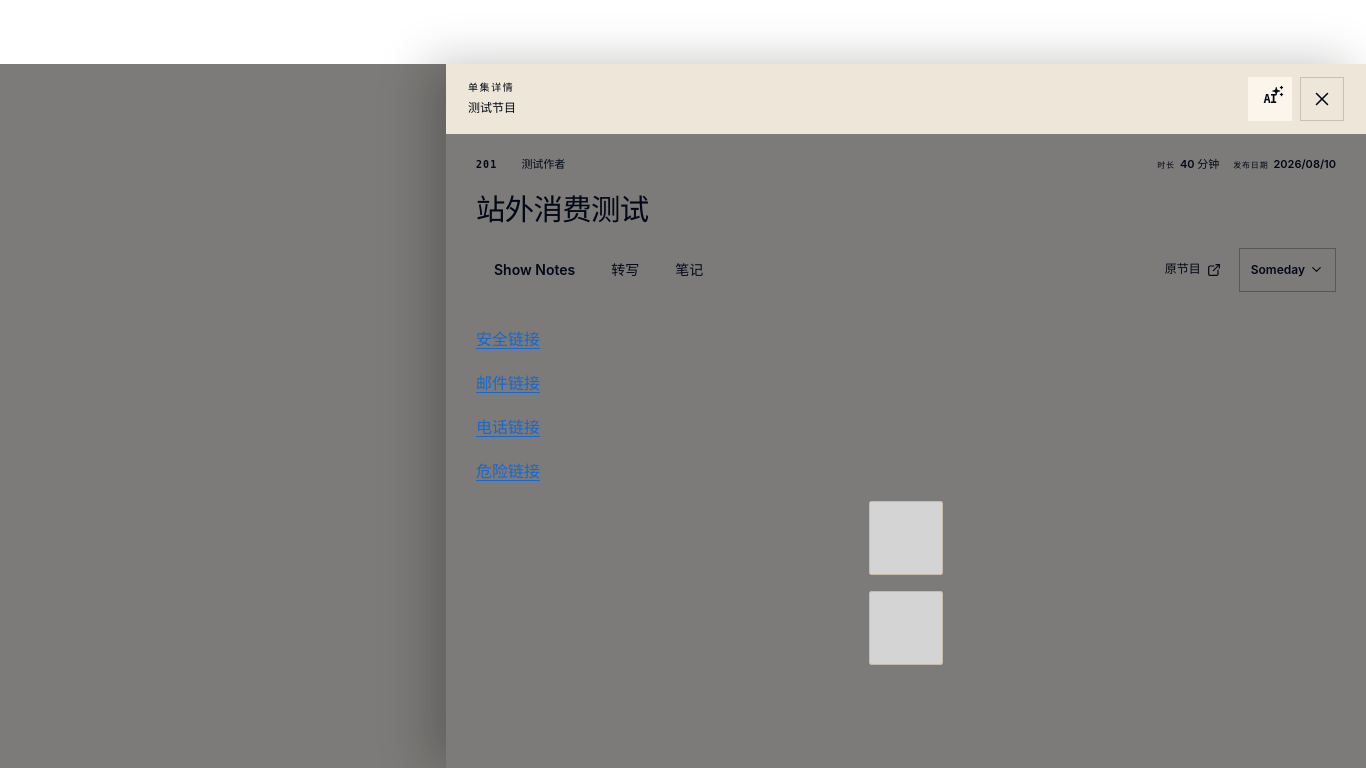
Test: ConsumptionDetailPanel › explains the Focus requirement instead of offering a start command
This screenshot has width=1366, height=768.
Click the tab "转写" at (625, 270), box [593,245,657,295]
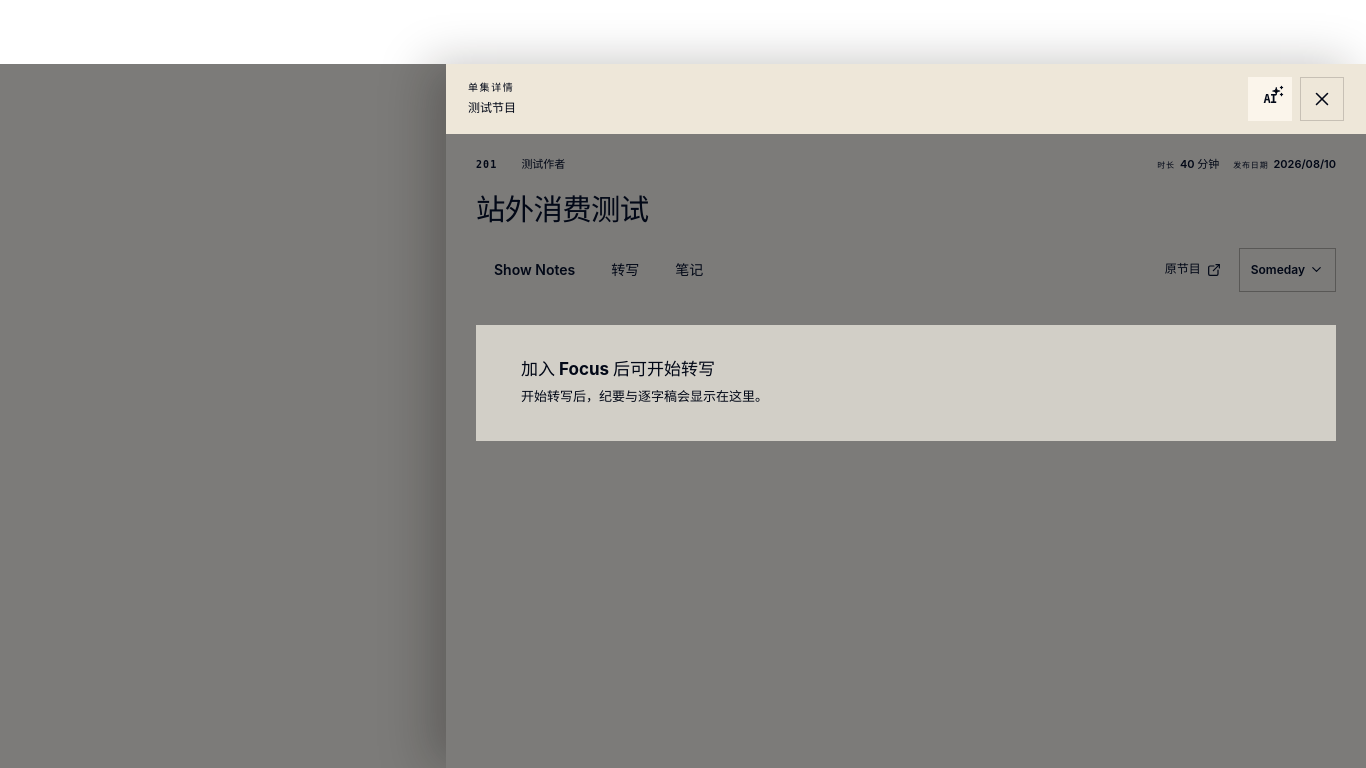
Expected: the button "原节目" is shown, [1158,248,1229,292]
Now the text "加入 Focus 后可开始转写" is shown, box [521,359,715,379]
